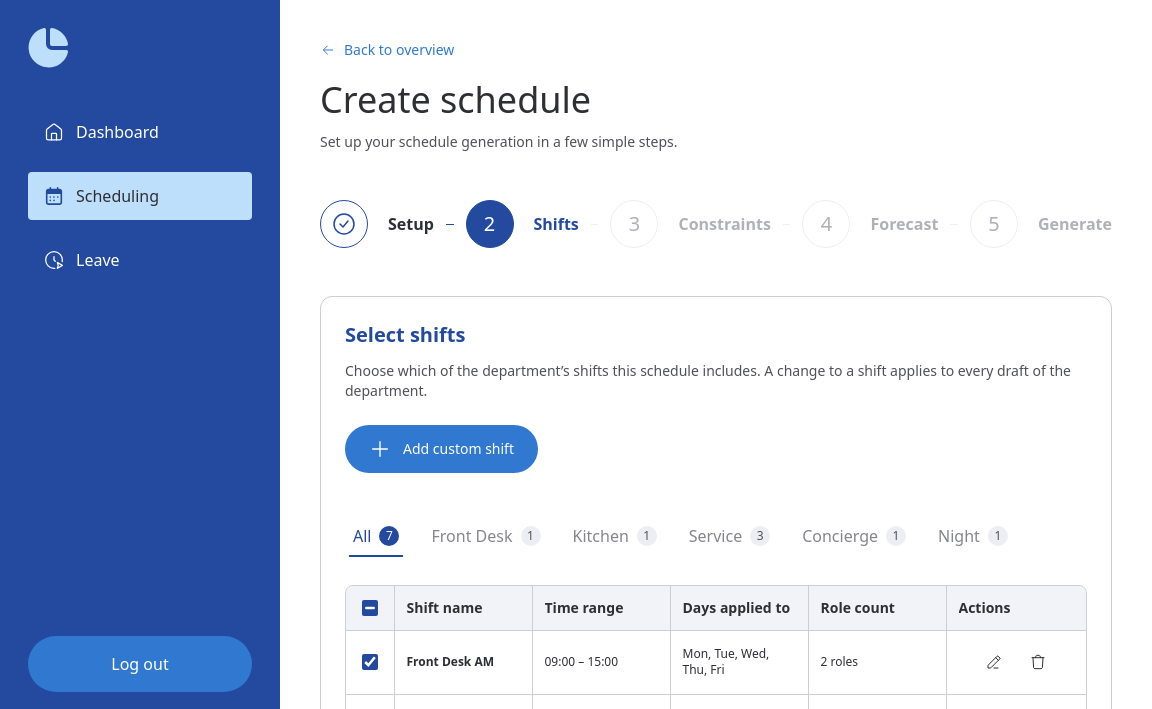
Test: Create Schedule: the department's shifts › given_aDeleteRefused_when_deleting_then_saysWhy
Expected: the row "Front Desk AM 09:00 – 15:00 Mon, Tue, Wed, Thu, Fri 2 roles" is shown, [346, 630, 1086, 694]
What coordinates should you click on to do the following:
click the button named "Delete Front Desk AM"
I would click on:
 (1038, 662)
Its box is [1020, 644, 1056, 680].
(page scrolled)
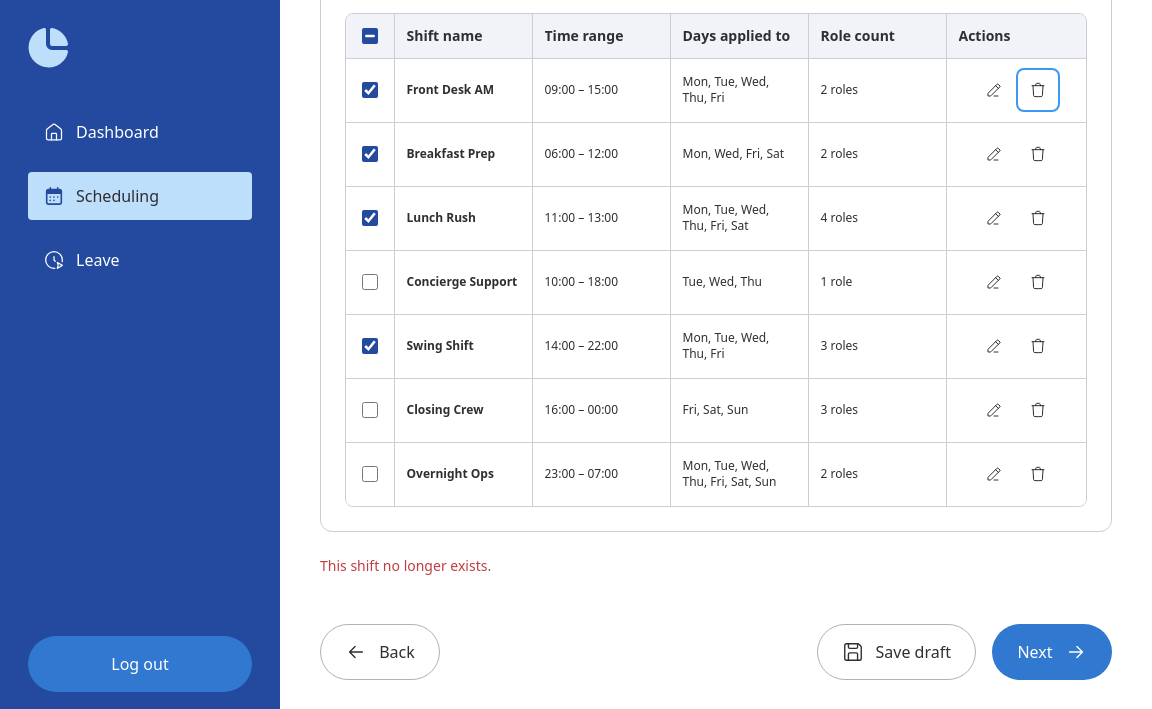
Expected: the message reads "This shift no longer exists.", [320, 556, 491, 575]
